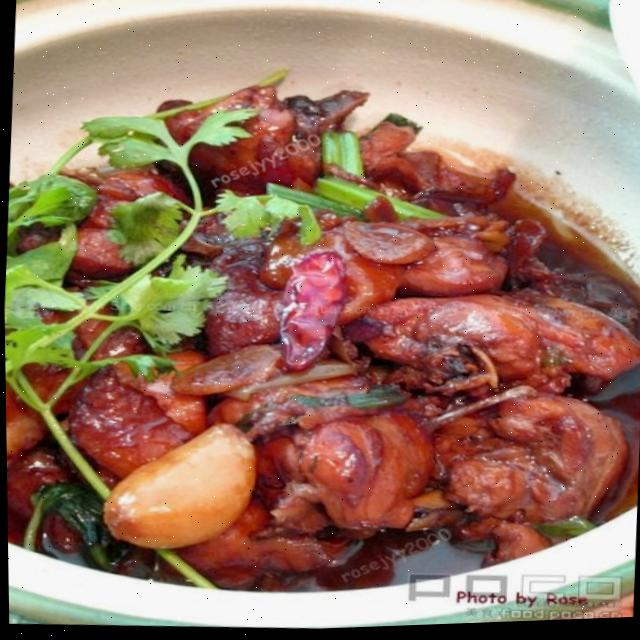鸡肉料理 含炸鸡: (22, 56, 620, 584)
